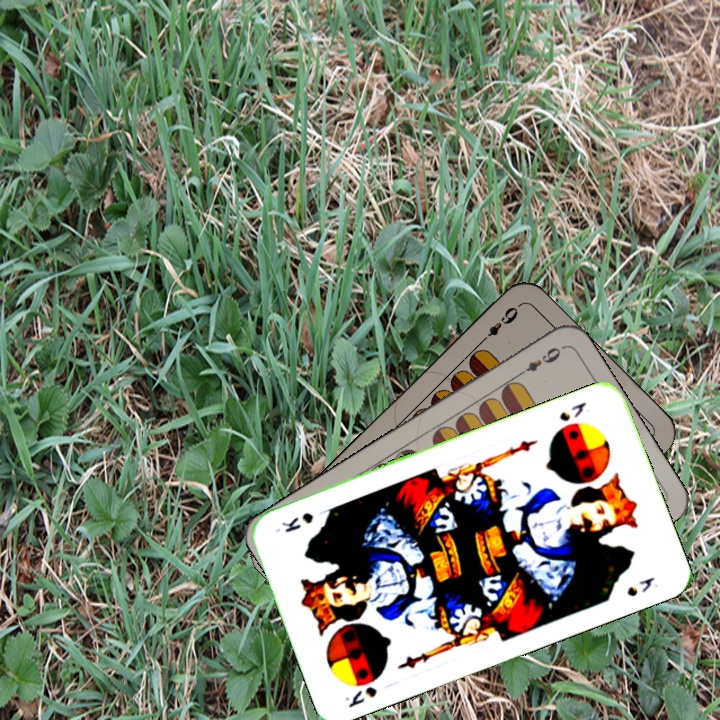E9: (476, 302, 521, 347), (512, 343, 564, 380)
SK: (341, 682, 380, 711), (555, 398, 589, 424)
